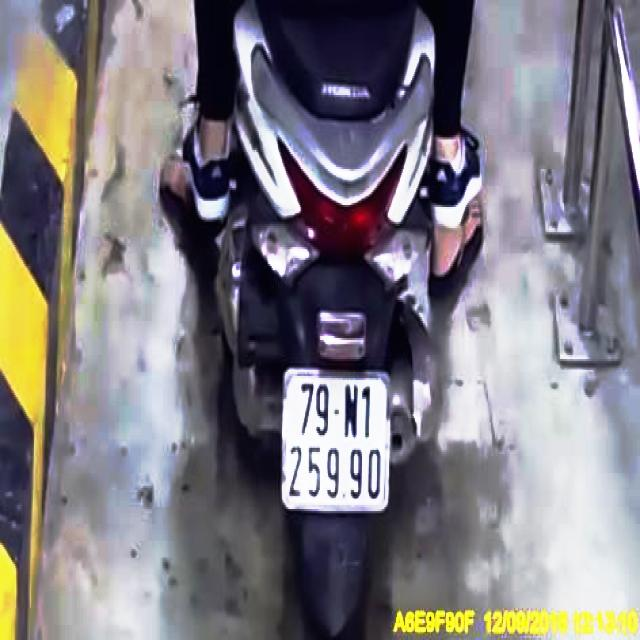license_plate: (286, 374, 391, 510)
